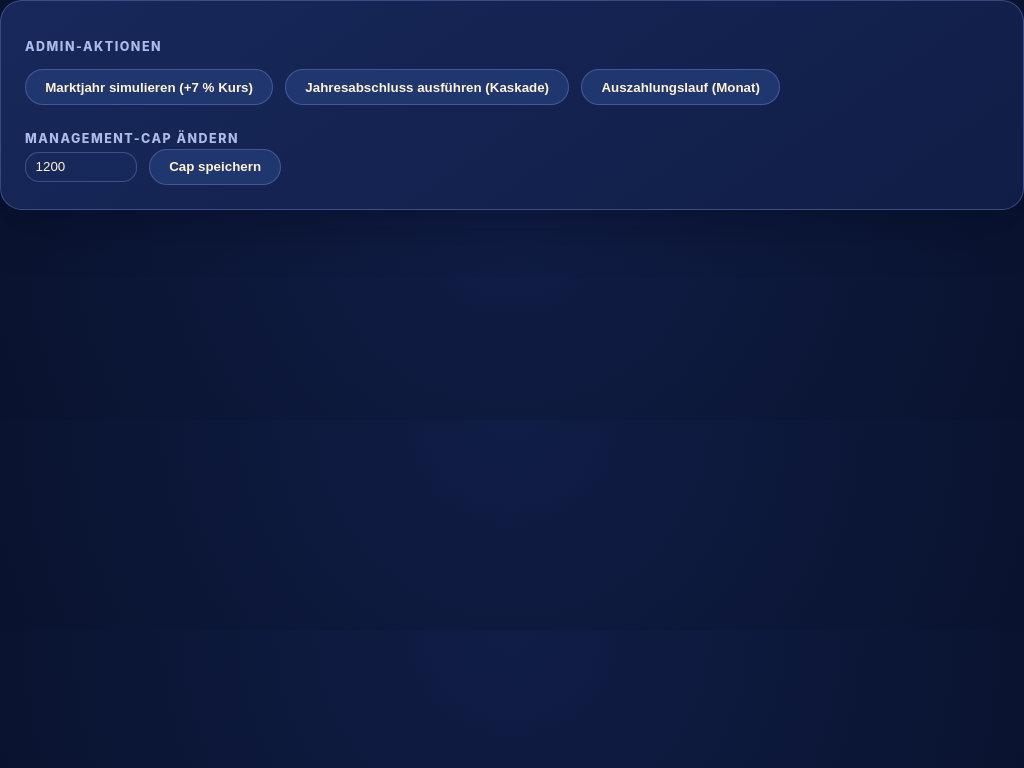
Test: AdminAktionen — Jahresabschluss (Kaskade) › postet auf /api/admin/jahresabschluss und rendert KaskadenErgebnis
Click the button "Jahresabschluss ausführen (Kaskade)".
click(427, 87)  # box [285,69,569,106]
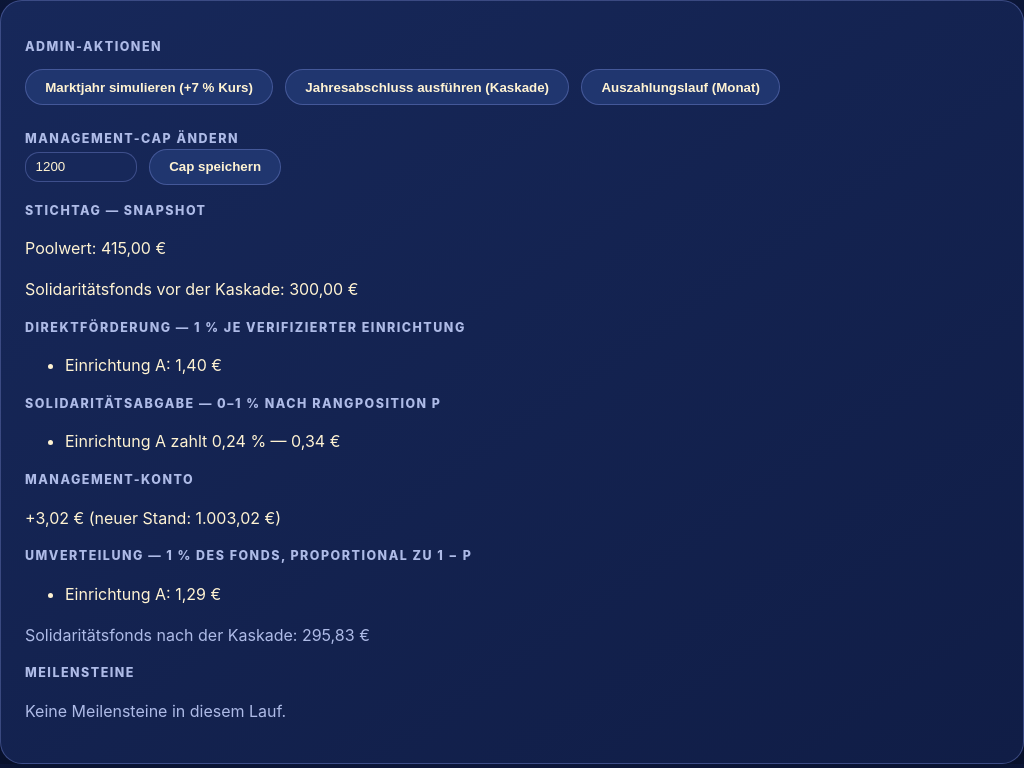
Expected: the element with test id "kaskaden-ergebnis" is shown, [25,203,472,721]
